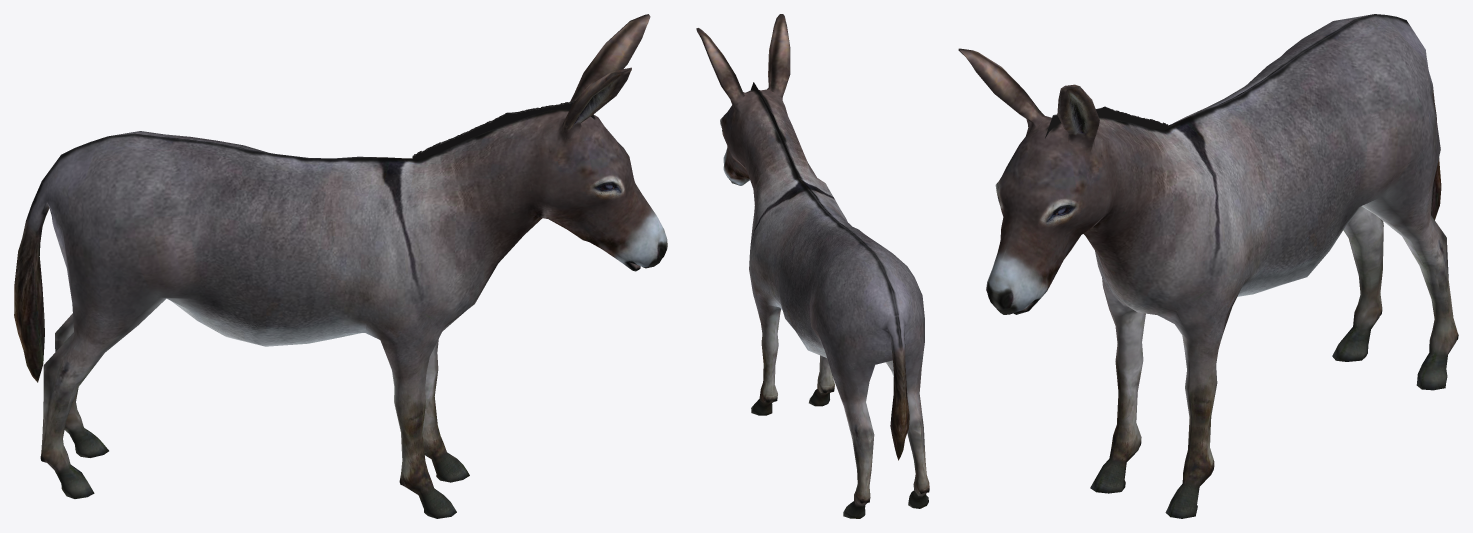
Rendered from Donkey.fbx.
The picture shows the model from 3 angles, left to right: view 1: azimuth 30°, elevation 25°; view 2: azimuth 150°, elevation 25°; view 3: azimuth 270°, elevation 25°; orthographic projection. The views are drawn at different scales.
Parts seen in each view (by area): view 1: Donkey.000; view 2: Donkey.000; view 3: Donkey.000.
Boxes of the visible parts, x1,y1,x2,y2 form: Donkey.000: [14, 14, 667, 518]; Donkey.000: [696, 14, 929, 518]; Donkey.000: [958, 14, 1458, 518].
Bounding box in the file's own units: 43.95 × 41.83 × 37.64.
